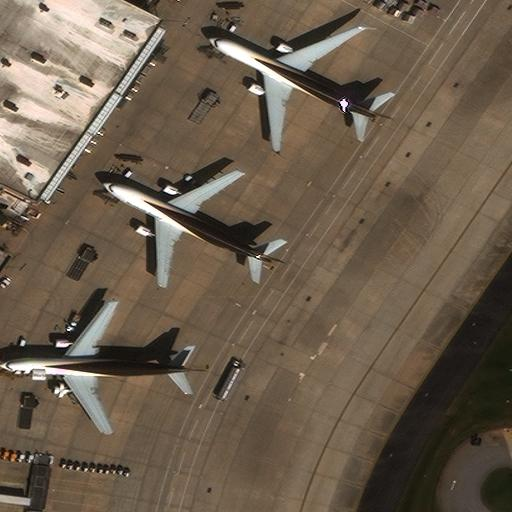Large Civil Transport: (0, 301, 204, 433), (208, 24, 376, 148), (102, 169, 271, 285)
